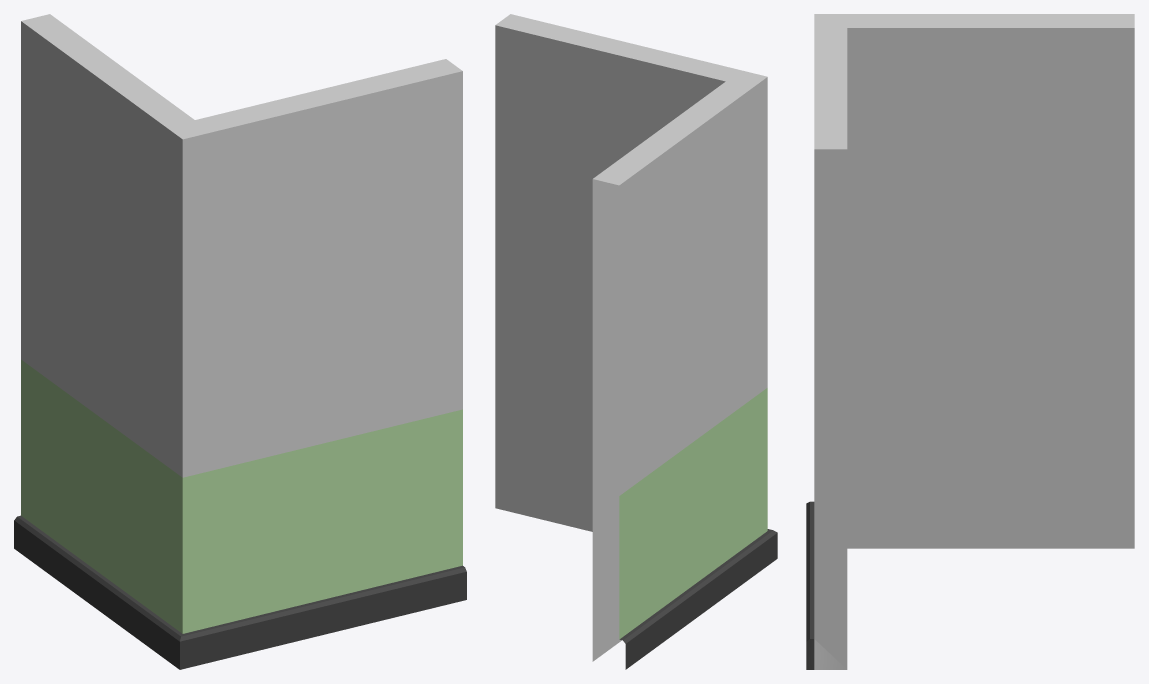
File: School_Cornor.fbx
3 views of the same model, side by side, from view 1: azimuth 30°, elevation 25°; view 2: azimuth 150°, elevation 25°; view 3: azimuth 270°, elevation 25° (orthographic). The views are drawn at different scales.
Parts seen in each view (by area): view 1: School_Wall_Half.001; view 2: School_Wall_Half.001; view 3: School_Wall_Half.001.
Boxes of the visible parts, bbox=[...] form: School_Wall_Half.001: bbox=[14, 14, 466, 669]; School_Wall_Half.001: bbox=[495, 14, 777, 669]; School_Wall_Half.001: bbox=[806, 14, 1134, 669].
Size of the model in its own units: 143 by 250 by 143.
